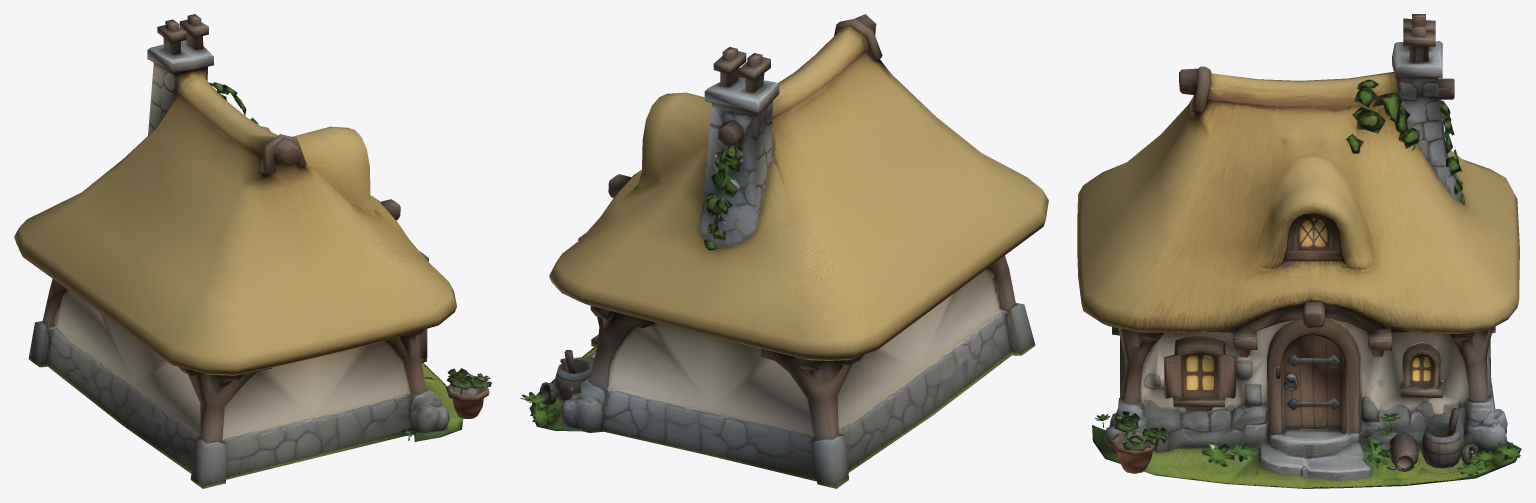
Rendered from large_house_86304e2a.glb.
3 views of the same model, side by side, from view 1: azimuth 30°, elevation 25°; view 2: azimuth 150°, elevation 25°; view 3: azimuth 270°, elevation 25° (orthographic). The views are drawn at different scales.
Parts seen in each view (by area): view 1: tripo_node_47718094-7cbf-4fbc-ab49-f51afce3c561; view 2: tripo_node_47718094-7cbf-4fbc-ab49-f51afce3c561; view 3: tripo_node_47718094-7cbf-4fbc-ab49-f51afce3c561.
Part boxes in pixels (box(x1,y1,x2,y2)): tripo_node_47718094-7cbf-4fbc-ab49-f51afce3c561: box(14, 14, 491, 488); tripo_node_47718094-7cbf-4fbc-ab49-f51afce3c561: box(520, 14, 1048, 488); tripo_node_47718094-7cbf-4fbc-ab49-f51afce3c561: box(1077, 14, 1521, 488).
Size of the model in its own units: 0.9121 by 0.9199 by 0.998.
Materials: 1 (1 with a texture image).
